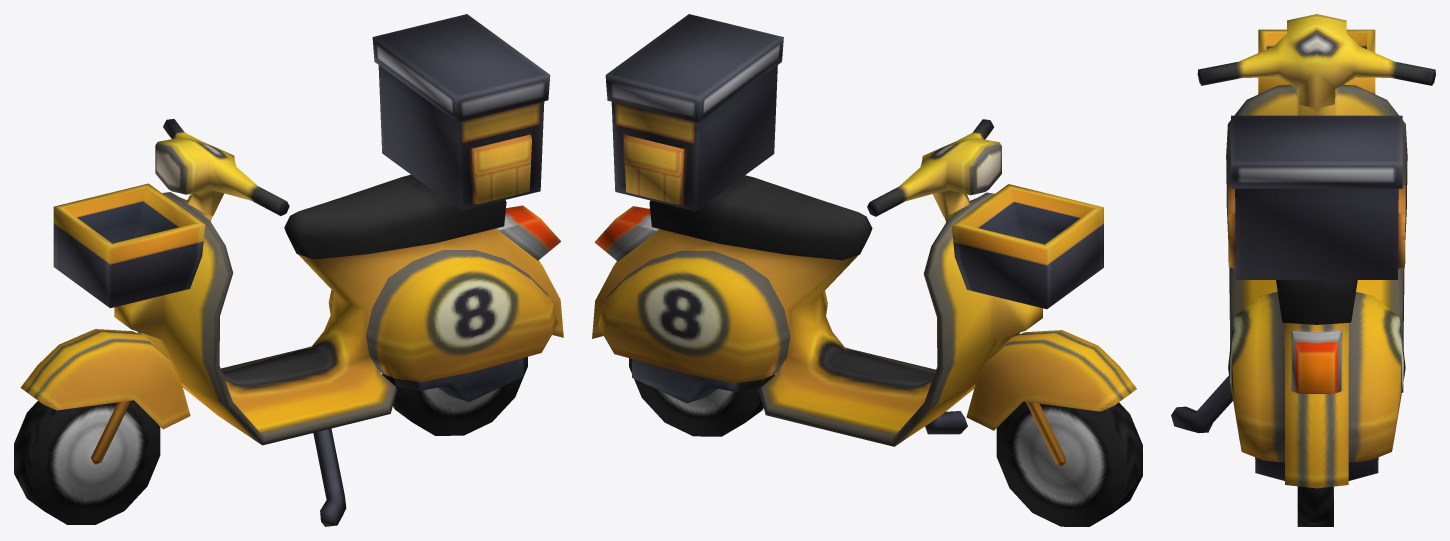
The model's file is dianche.FBX.
3 views of the same model, side by side, from view 1: azimuth 30°, elevation 25°; view 2: azimuth 150°, elevation 25°; view 3: azimuth 270°, elevation 25° (orthographic). The views are drawn at different scales.
Visible parts, largest first — view 1: dianche; view 2: dianche; view 3: dianche.
Part boxes in pixels (<box>): dianche: <box>14,14,563,526</box>; dianche: <box>592,14,1142,526</box>; dianche: <box>1171,14,1435,526</box>.
Size of the model in its own units: 253 by 170 by 105.
1 material, 1 textured.
